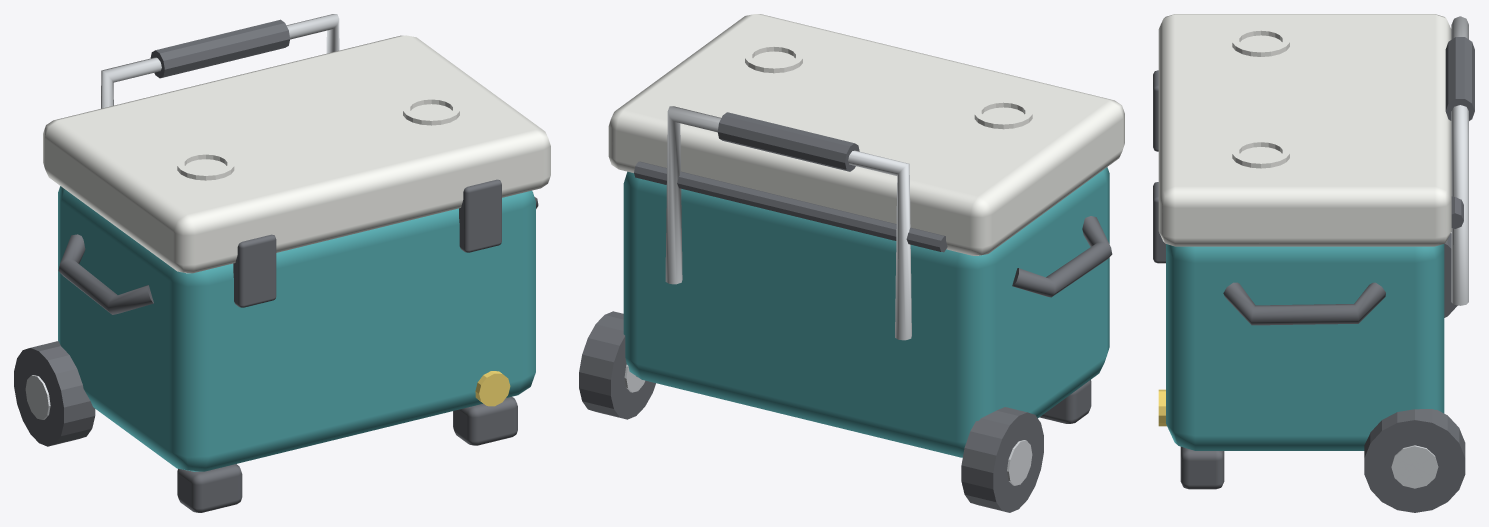
File: beach-surf-and-paddle-kit-cooler-box-3c6c2b15.glb
3 renders of one model, left to right at view 1: azimuth 30°, elevation 25°; view 2: azimuth 150°, elevation 25°; view 3: azimuth 270°, elevation 25°, orthographic.
Visible parts, largest first — view 1: cooler-box-teal, cooler-box-foam, cooler-box-charcoal, cooler-box-steel, cooler-box-sun; view 2: cooler-box-teal, cooler-box-foam, cooler-box-charcoal, cooler-box-steel; view 3: cooler-box-foam, cooler-box-teal, cooler-box-charcoal, cooler-box-steel.
Boxes of the visible parts, x1,y1,x2,y2 form: cooler-box-teal: (58,186,535,471); cooler-box-foam: (43,35,550,273); cooler-box-charcoal: (14,19,538,512); cooler-box-steel: (25,14,339,419); cooler-box-sun: (475,371,510,406); cooler-box-teal: (623,167,1109,457); cooler-box-foam: (608,14,1124,255); cooler-box-charcoal: (579,112,1112,512); cooler-box-steel: (624,106,1032,485); cooler-box-foam: (1158,14,1451,246); cooler-box-teal: (1166,244,1444,450); cooler-box-charcoal: (1153,37,1474,512); cooler-box-steel: (1391,16,1468,488).
Size of the model in its own units: 0.6863 by 0.519 by 0.4395.
